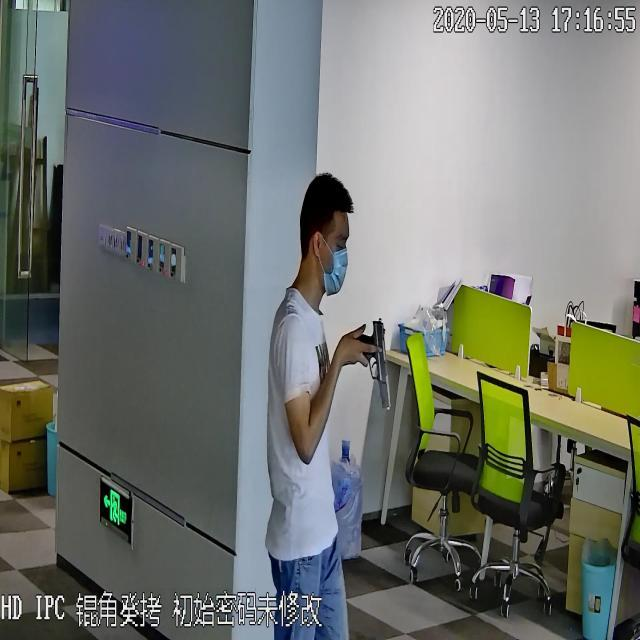gun: (348, 309, 396, 406)
